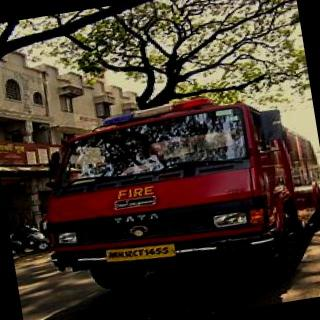Fire_truck: (25, 80, 320, 315)
